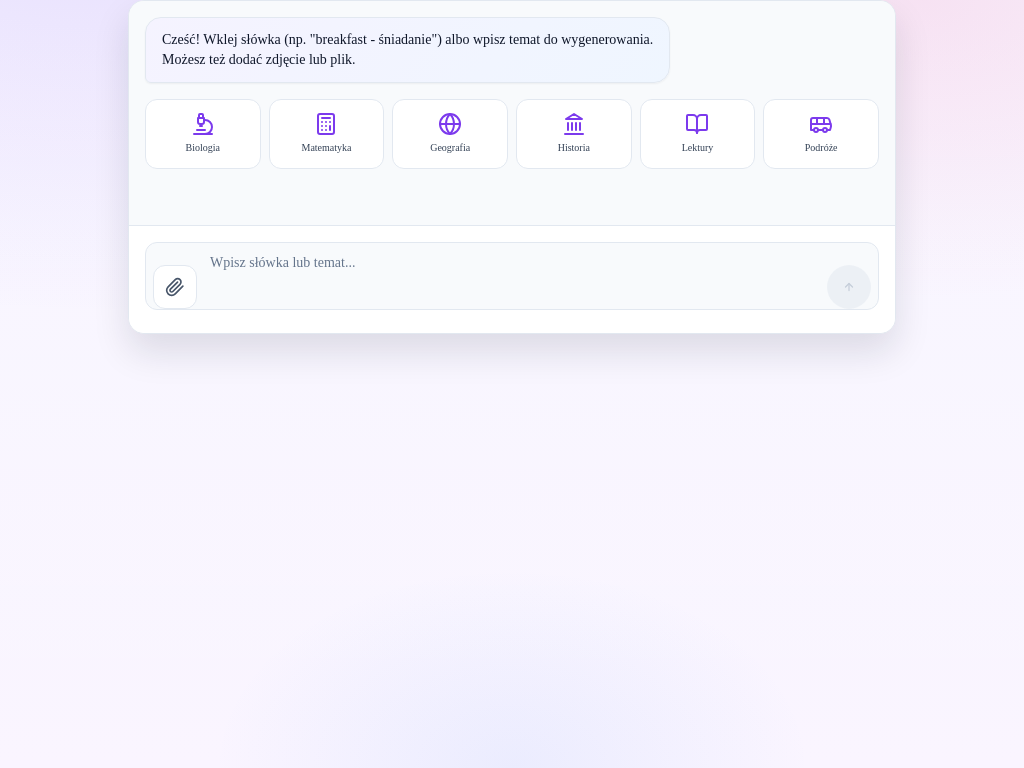
Test: WordIntake › shows a helpful message for general questions
Type "Jak zrobić tort?" into the text box with placeholder "Wpisz słówka lub temat...".
click(512, 276); type("Jak zrobić tort?")  # box left=145, top=242, right=879, bottom=310
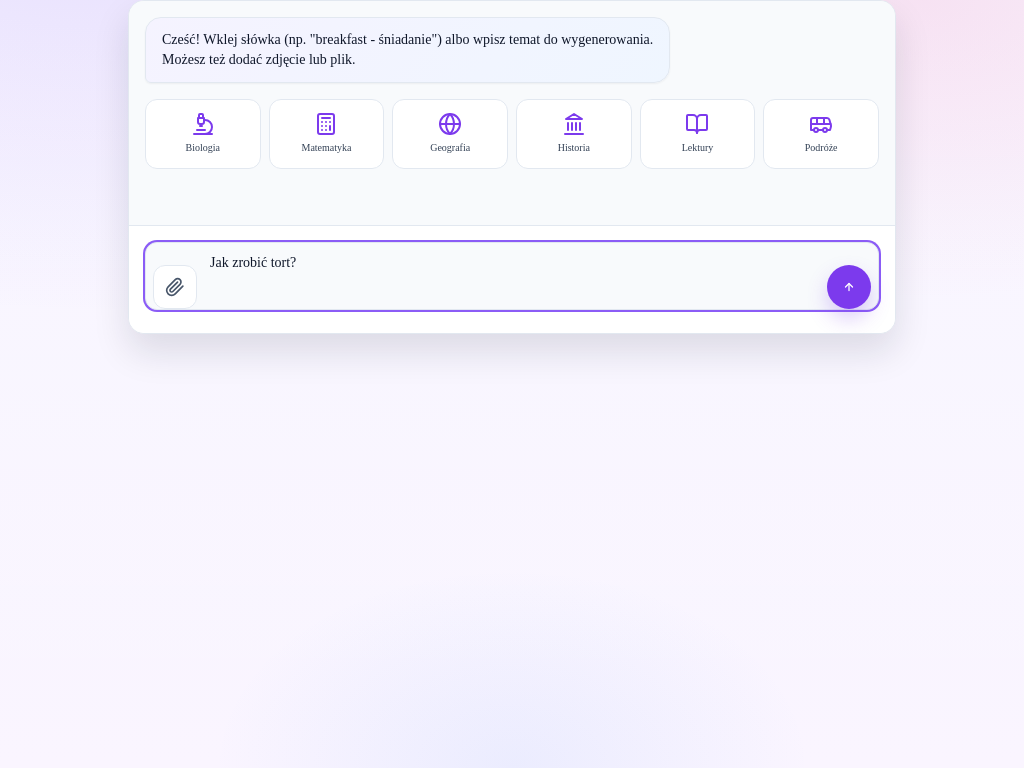
Press Enter
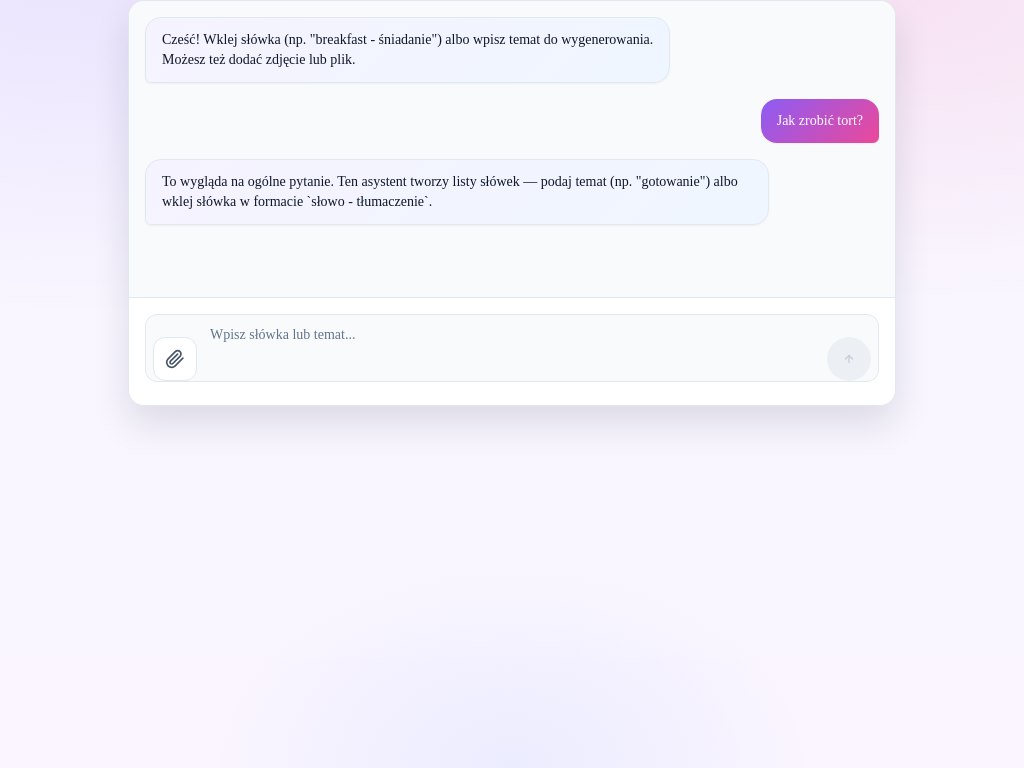
Now the text "To wygląda na ogólne pytanie" is shown, box left=162, top=174, right=741, bottom=209
